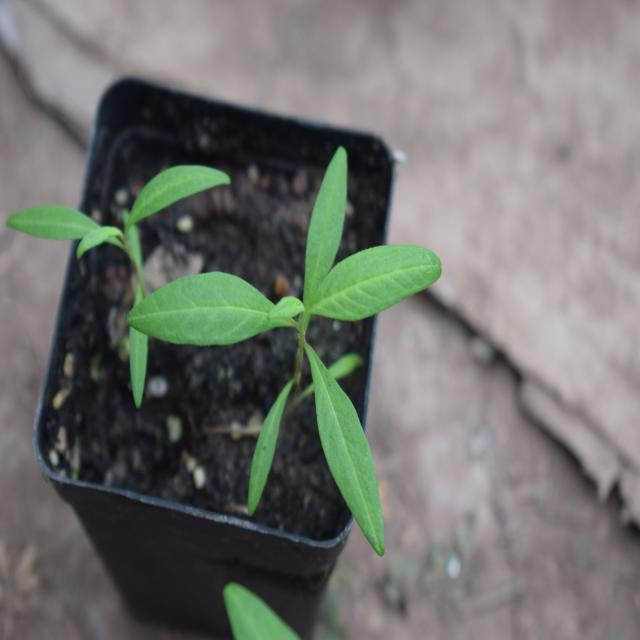white_smart_weed: (133, 196, 462, 560), (0, 145, 237, 278)
